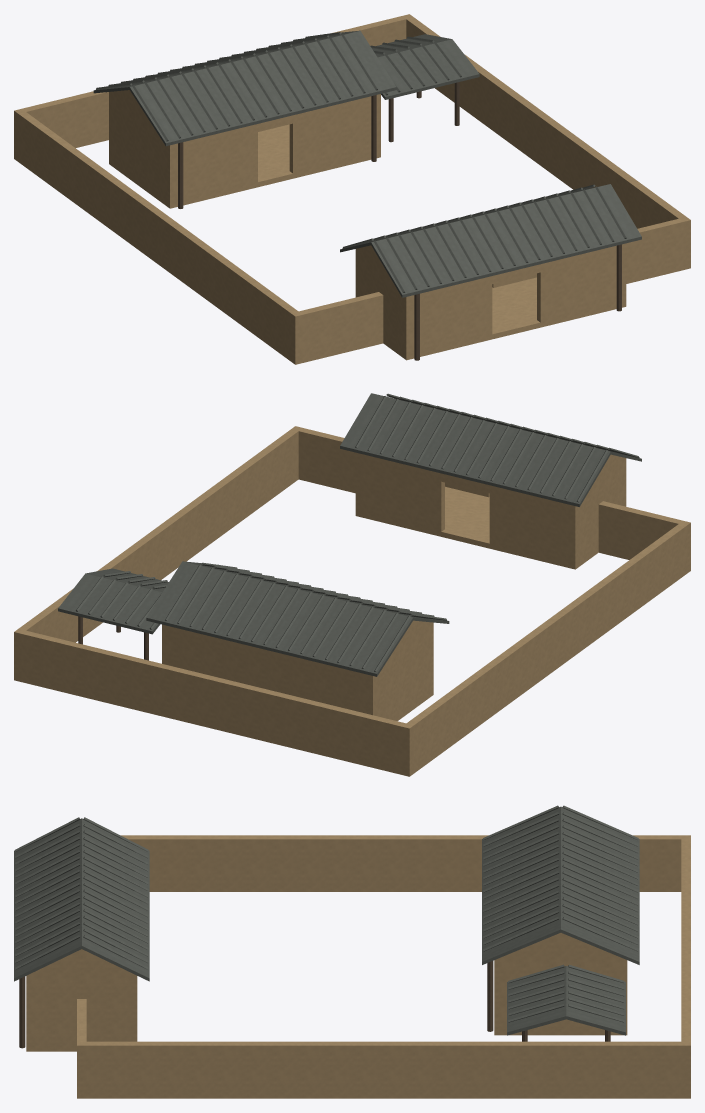
Rendered from wall-house-LOD1.glb.
3 views of the same model, one above another, from view 1: azimuth 30°, elevation 25°; view 2: azimuth 150°, elevation 25°; view 3: azimuth 270°, elevation 25° (orthographic). The views are drawn at different scales.
Parts seen in each view (by area): view 1: wall-house_earth, wall-house_tile, wall-house_timber; view 2: wall-house_earth, wall-house_tile; view 3: wall-house_earth, wall-house_tile, wall-house_timber.
Part boxes in pixels (x1,y1,x2,y2): wall-house_earth: (14, 14, 690, 364); wall-house_tile: (93, 30, 641, 297); wall-house_timber: (178, 82, 621, 360); wall-house_earth: (14, 426, 690, 776); wall-house_tile: (58, 393, 641, 676); wall-house_earth: (26, 835, 690, 1098); wall-house_tile: (14, 805, 639, 1035); wall-house_timber: (19, 961, 610, 1048).
Size of the model in its own units: 18 by 4.53 by 24.45.
3 materials, 3 textured.
